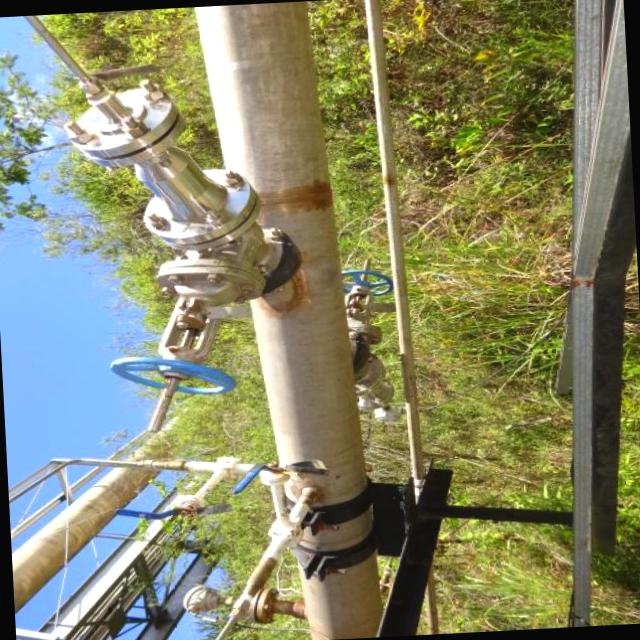gas: (194, 0, 387, 640), (363, 0, 437, 635), (12, 428, 182, 611)
